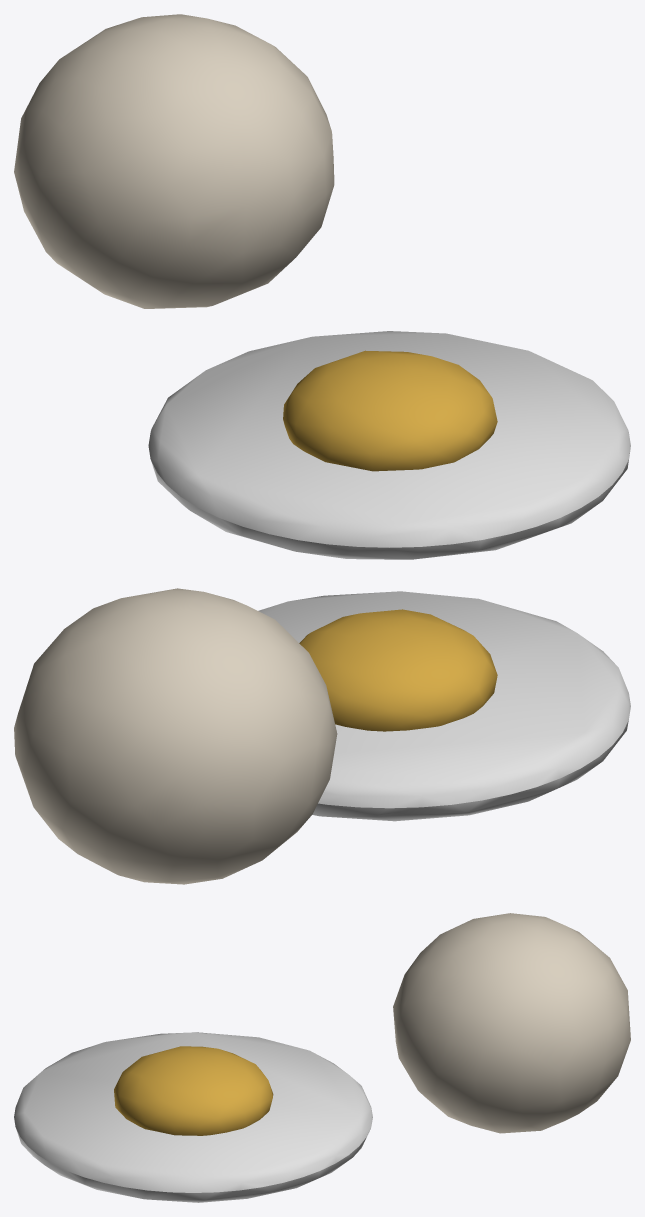
The model's file is trung_vo.glb.
The picture shows the model from 3 angles, top to bottom: view 1: azimuth 30°, elevation 25°; view 2: azimuth 150°, elevation 25°; view 3: azimuth 270°, elevation 25°; orthographic projection. The views are drawn at different scales.
Visible parts, largest first — view 1: trung_vo; view 2: trung_vo; view 3: trung_vo.
Part boxes in pixels (<box>): trung_vo: <box>14,14,630,559</box>; trung_vo: <box>14,588,630,884</box>; trung_vo: <box>14,913,630,1202</box>.
Bounding box in the file's own units: 0.09 × 0.0571 × 0.1547.
